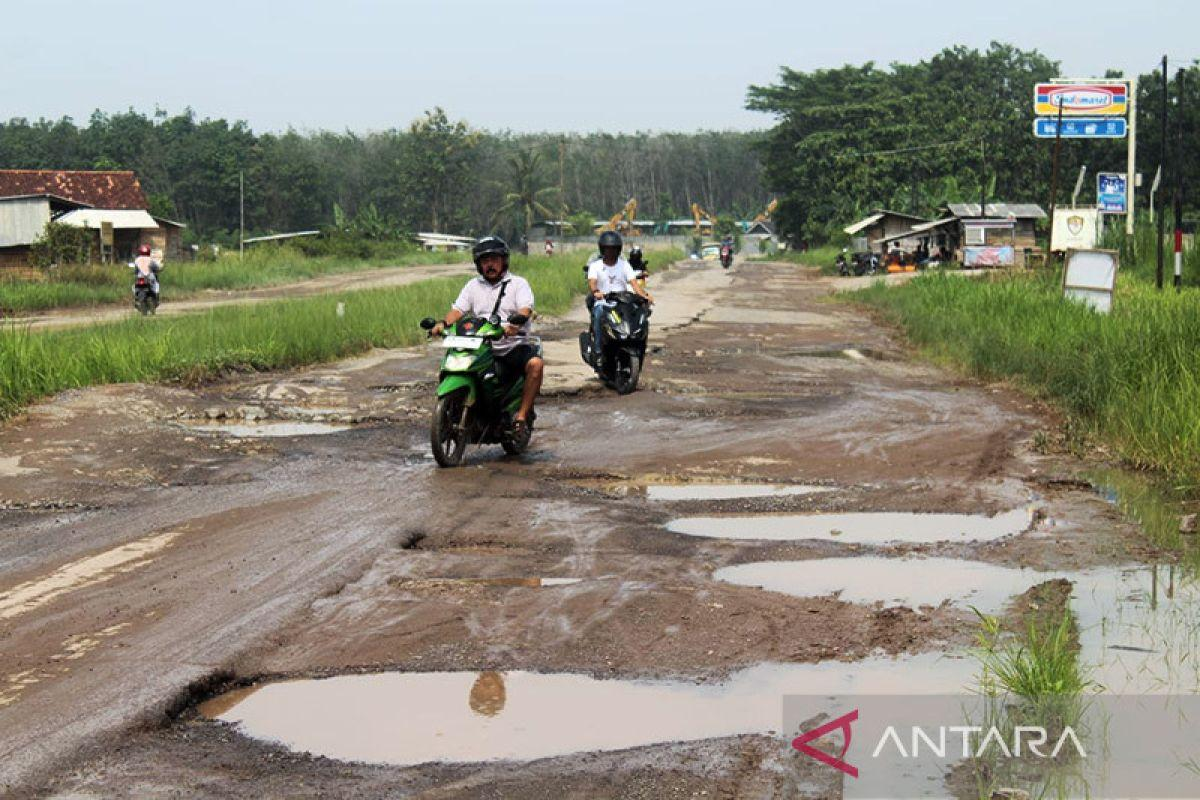Pothole: (153, 628, 1200, 800), (403, 418, 1200, 631), (601, 306, 984, 415), (123, 348, 389, 465)
